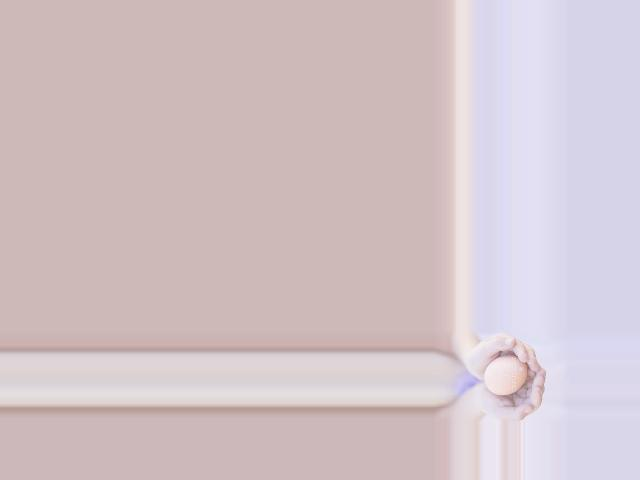egg: (483, 356, 527, 396)
